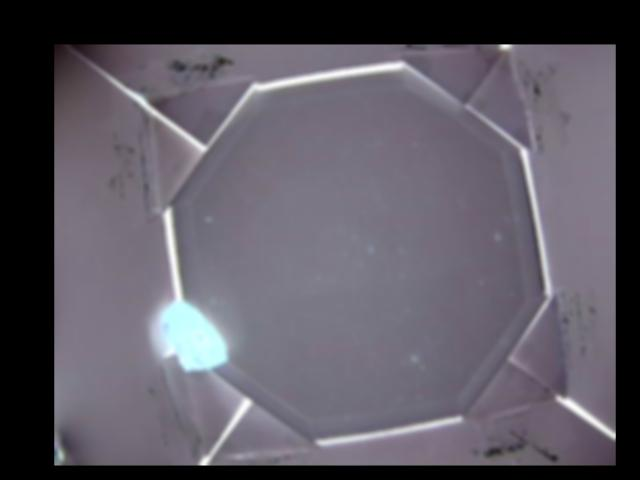Brisk: (166, 297, 227, 369)
